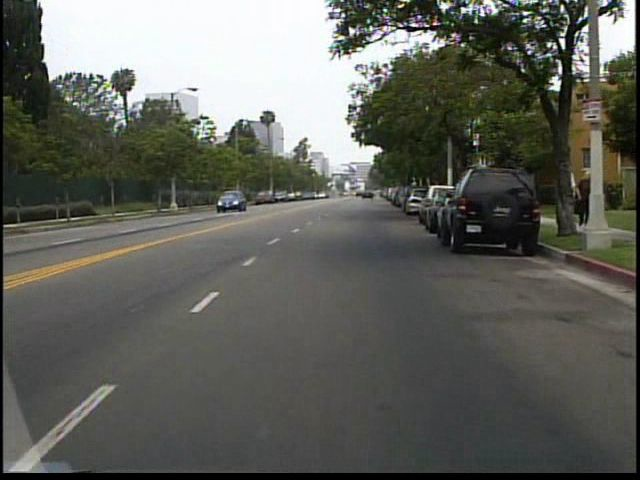person: (575, 164, 604, 236), (555, 160, 574, 230)
